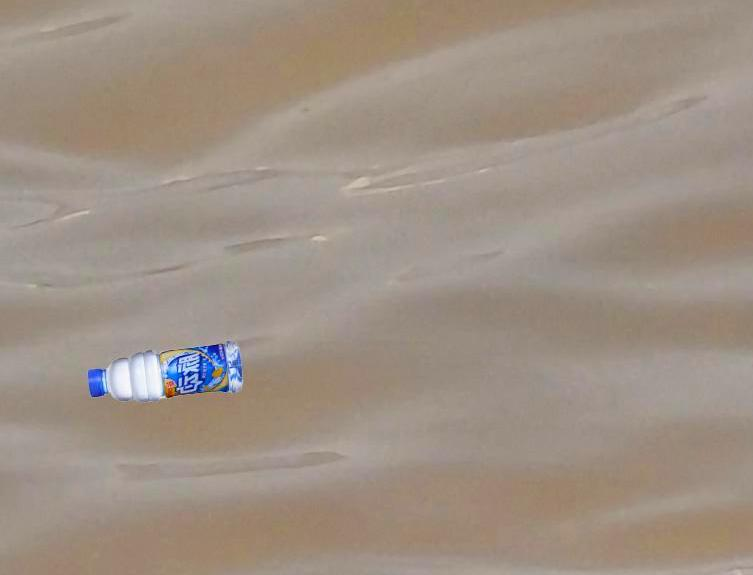Plastic: (84, 336, 251, 405)
